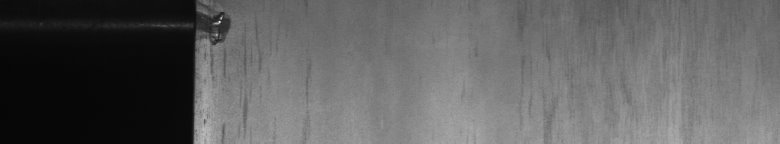hb: (204, 4, 247, 136)
